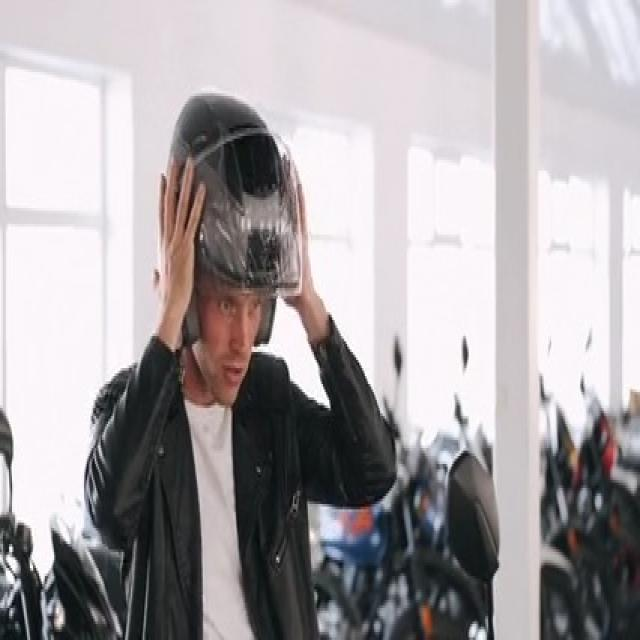Helmet_Wearer: (143, 94, 300, 401)
Jacket_Wearer: (90, 316, 394, 640)
Person: (88, 89, 399, 640)
